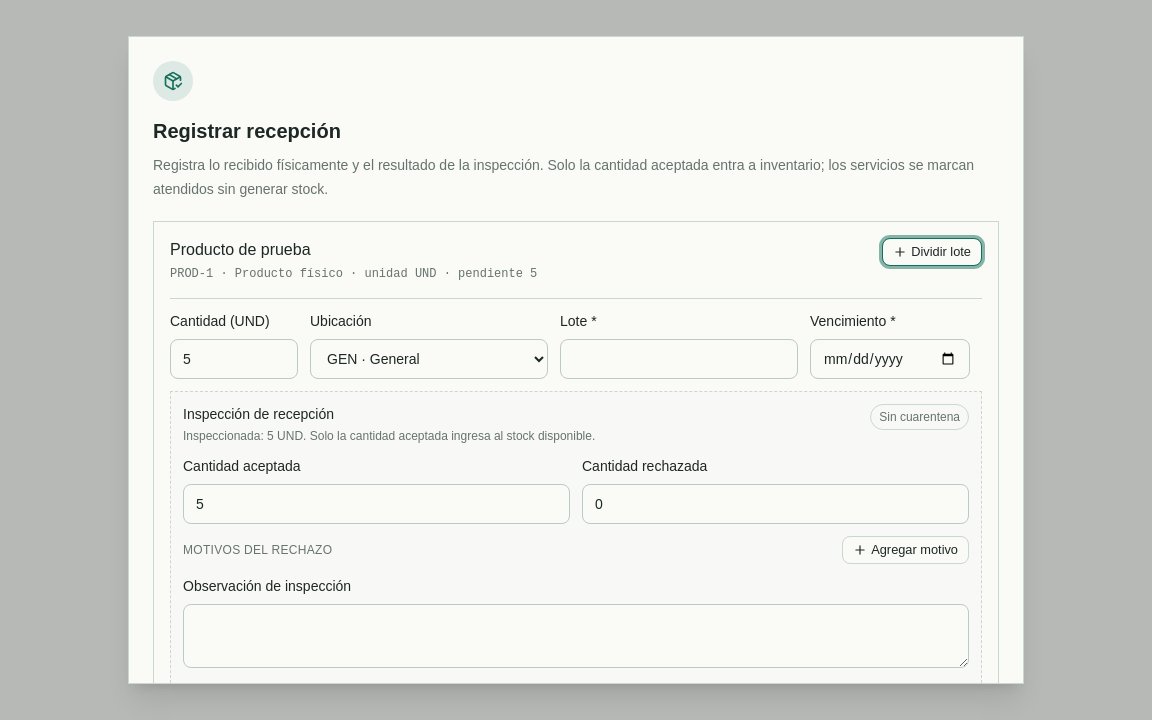
Test: DialogoConfirmacionRecepcion › marca todos los campos inválidos de cada partida
Expected: the text "PROD-1 · Producto físico · unidad UND · pendiente 5" is shown, x1=170 y1=266 x2=537 y2=282
Clear the number field labelled "Cantidad (UND)": (234, 359) x1=170 y1=339 x2=298 y2=379
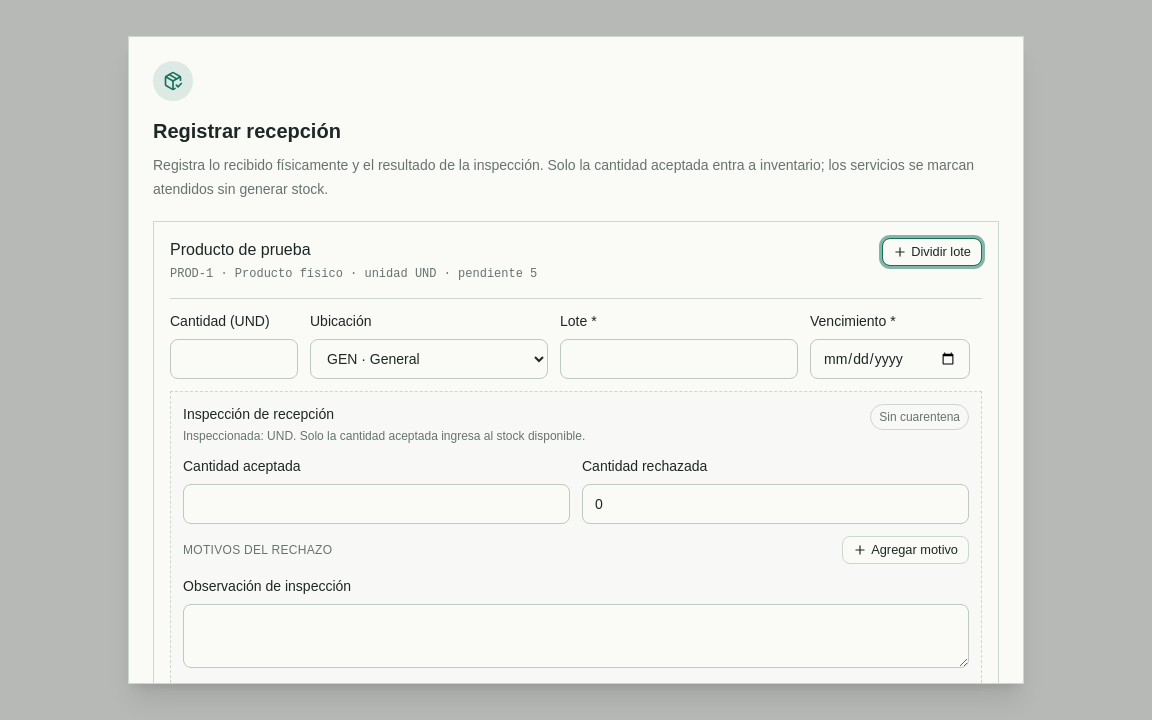
Select "Selecciona" in the dropdown labelled "Ubicación": (429, 359) x1=310 y1=339 x2=548 y2=379
(page scrolled)
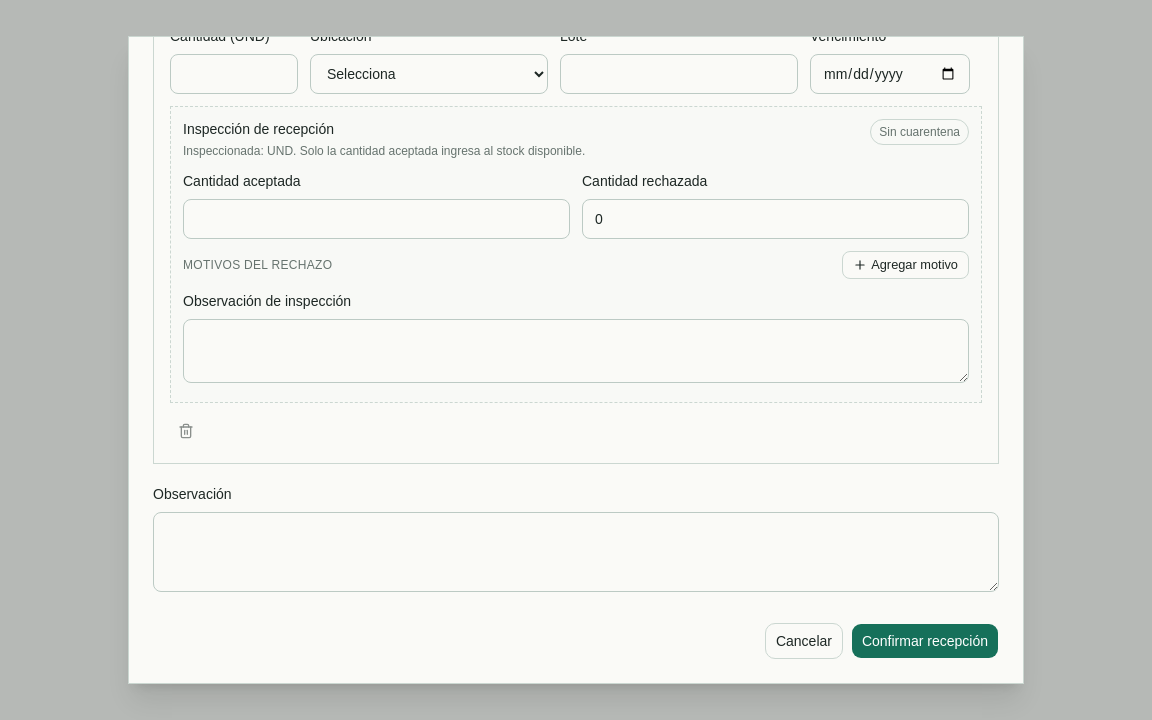
Click the button "Confirmar recepción": (925, 641) x1=851 y1=623 x2=999 y2=659
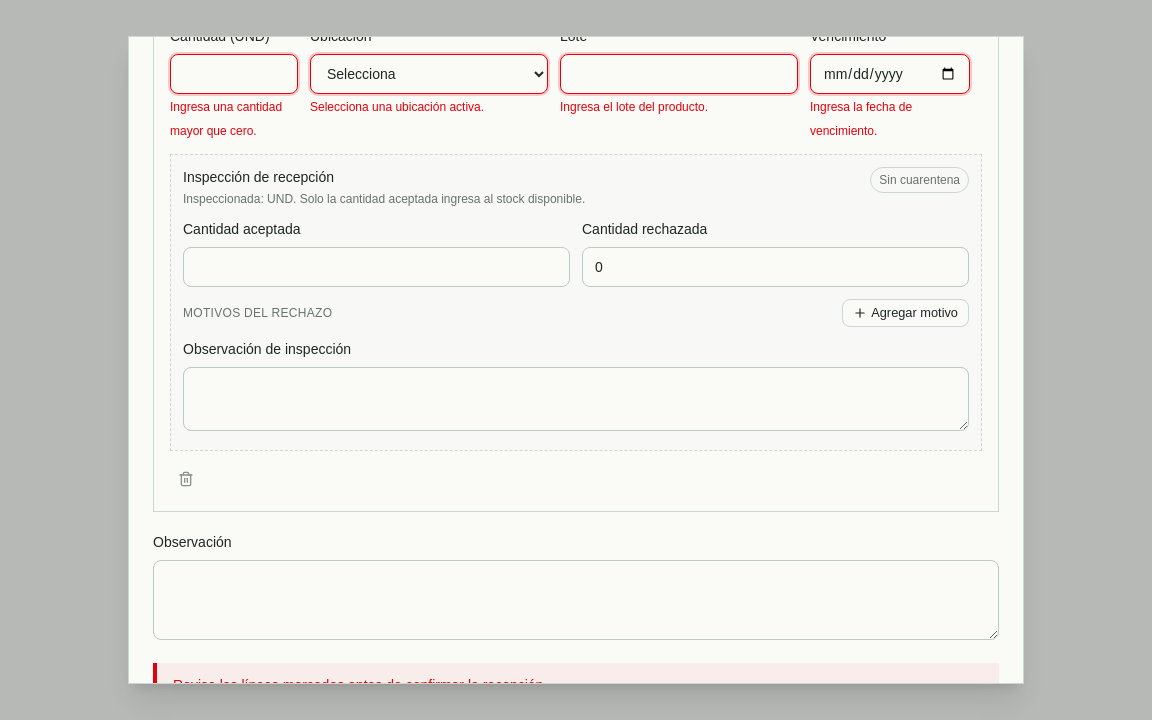
Expected: the text "Ingresa una cantidad mayor que cero." is shown, x1=170 y1=100 x2=282 y2=138
Expected: the text "Selecciona una ubicación activa." is shown, x1=310 y1=100 x2=484 y2=114
Expected: the text "Ingresa el lote del producto." is shown, x1=560 y1=100 x2=708 y2=114
